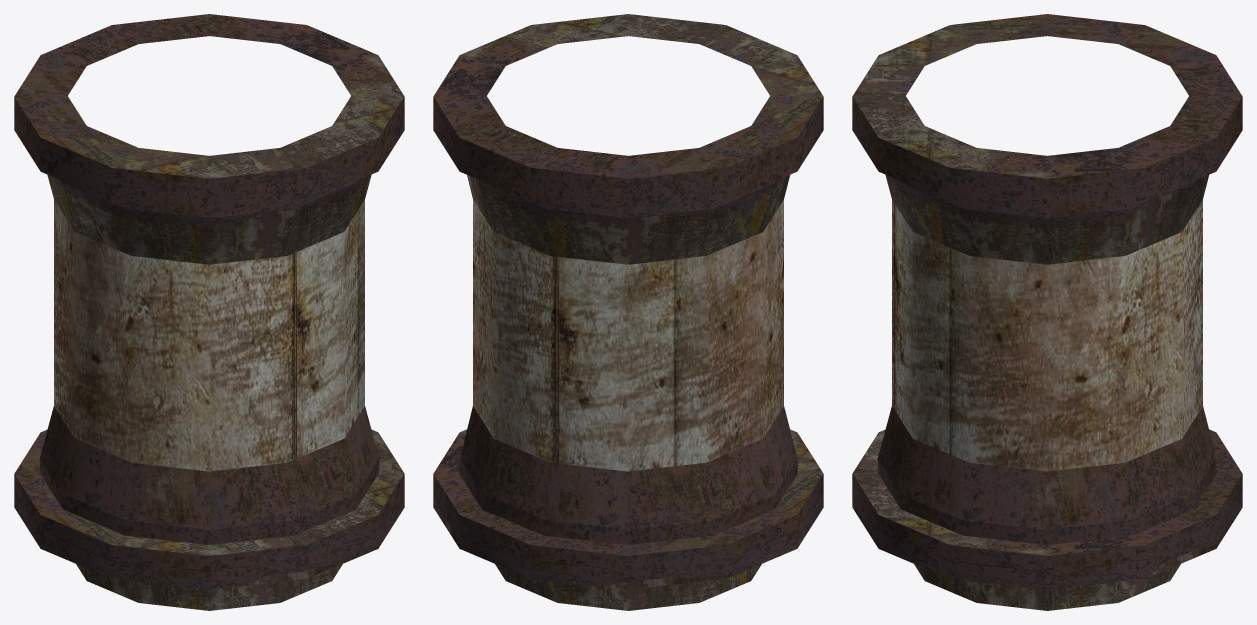
The model's file is railpipe_s06.glb.
The picture shows the model from 3 angles, left to right: view 1: azimuth 30°, elevation 25°; view 2: azimuth 150°, elevation 25°; view 3: azimuth 270°, elevation 25°; orthographic projection.
Size of the model in its own units: 41.38 by 53.26 by 41.38.
Materials: 3 (3 with a texture image).
